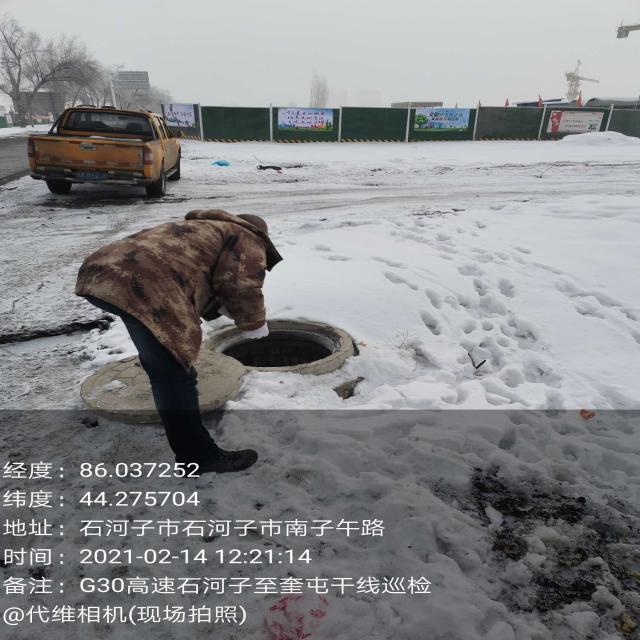manhole: (208, 320, 358, 374)
